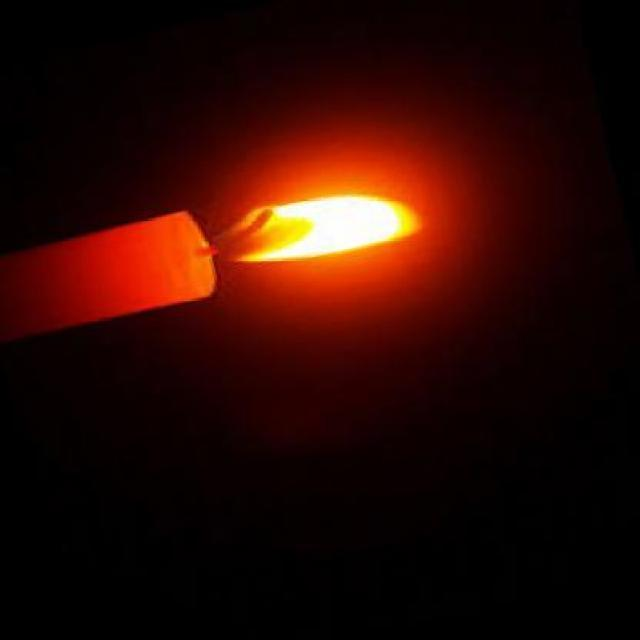Fire: (213, 190, 437, 273)
